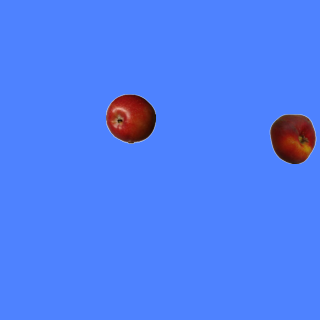Apple Braeburn: (105, 93, 155, 143)
Nectarine Flat: (267, 113, 317, 163)
